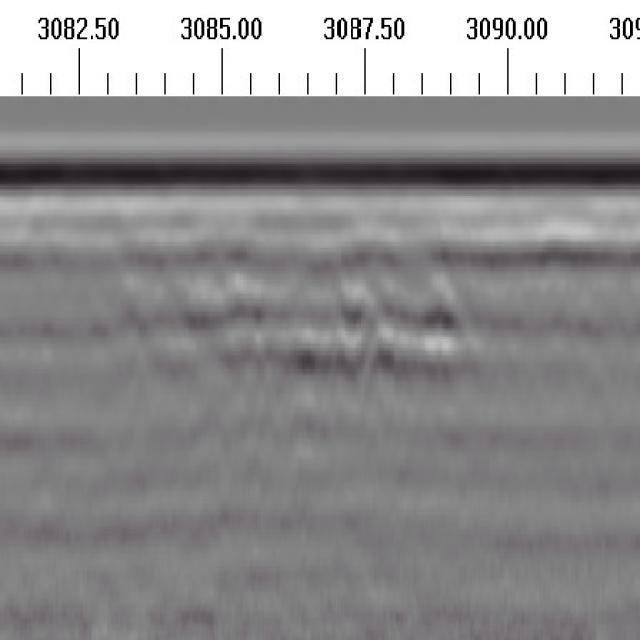loose: (133, 244, 476, 377)
